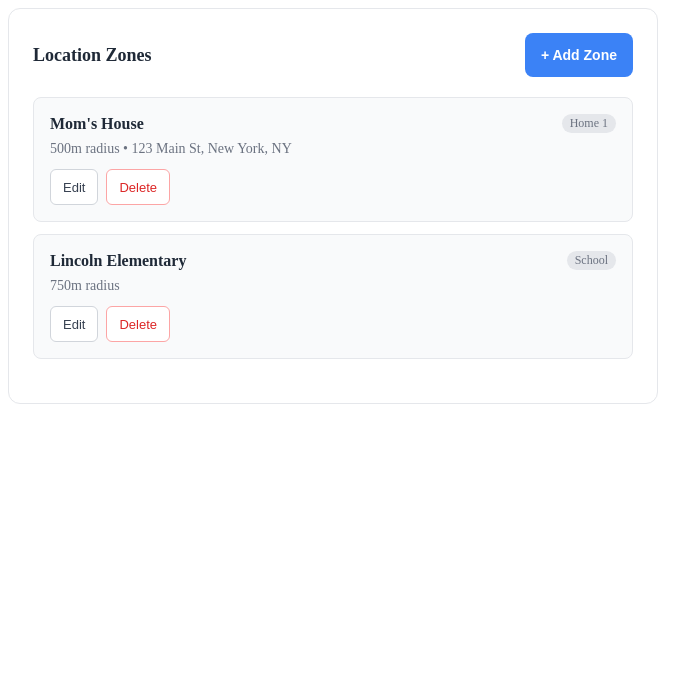
Test case: LocationZoneEditor › Add Zone Form › cancels form and returns to list
Click the button with test id "add-zone-button". click: [579, 55]
box: [525,33,633,77]
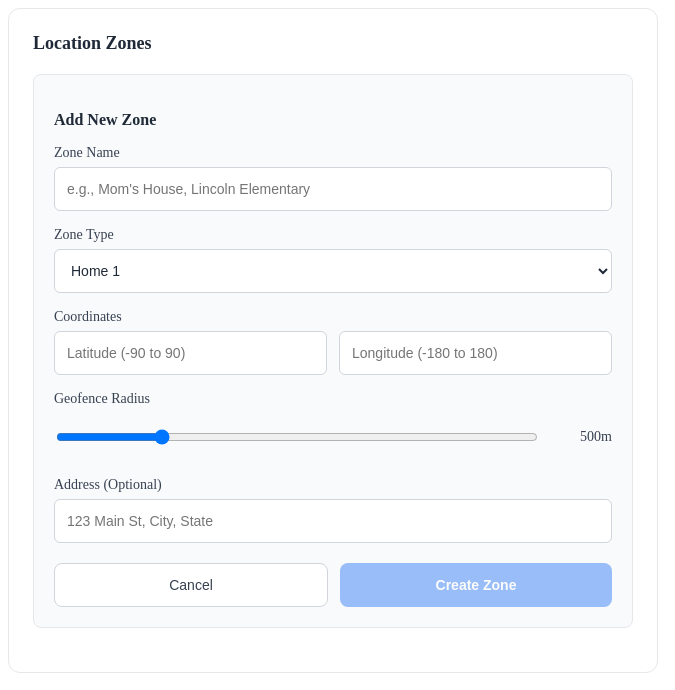
Click the button with test id "cancel-button". click: [191, 585]
box: [54,563,328,607]
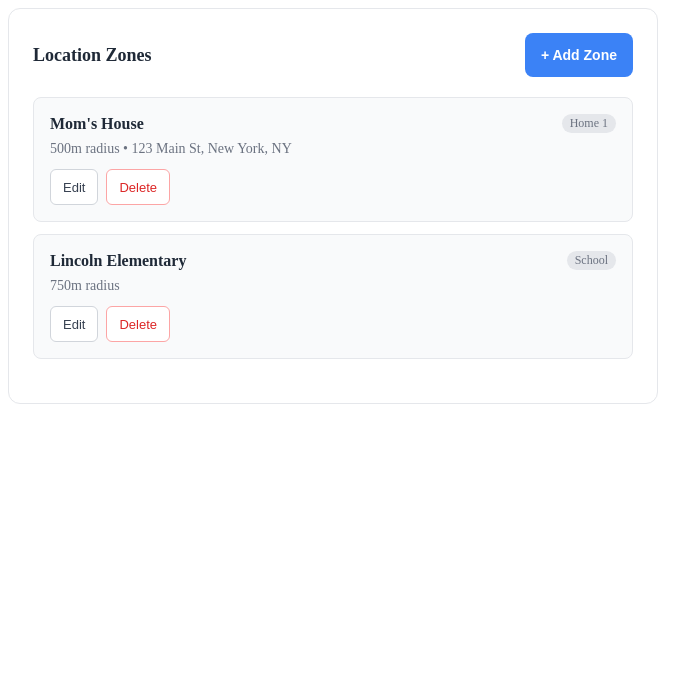
Expected: the element with test id "zone-form" is gone
Expected: the element with test id "zone-list" is shown, [33,97,633,359]
